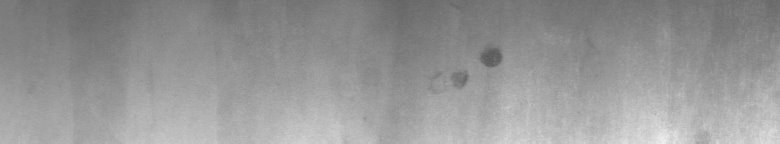fi: (433, 40, 508, 95)
